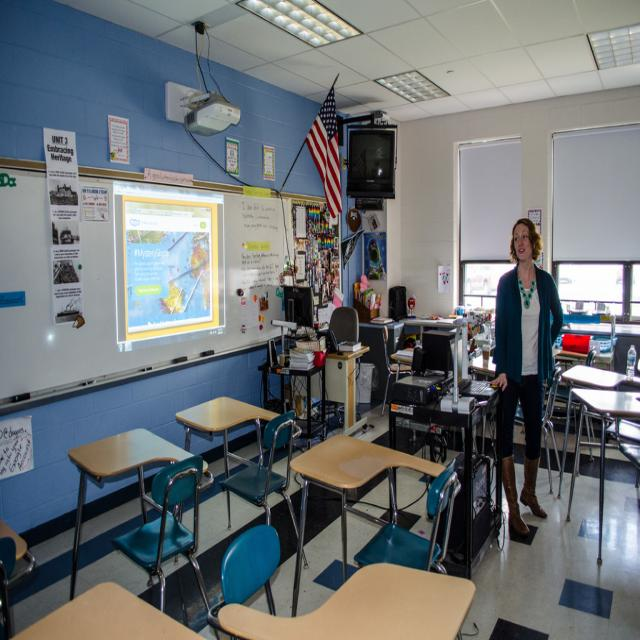chair: (110, 454, 210, 622), (352, 456, 462, 573), (221, 411, 301, 556), (194, 525, 280, 636), (380, 321, 412, 414)
desk: (66, 428, 208, 602)
person: (490, 215, 564, 540)
tv: (114, 183, 226, 351), (346, 125, 395, 199)
